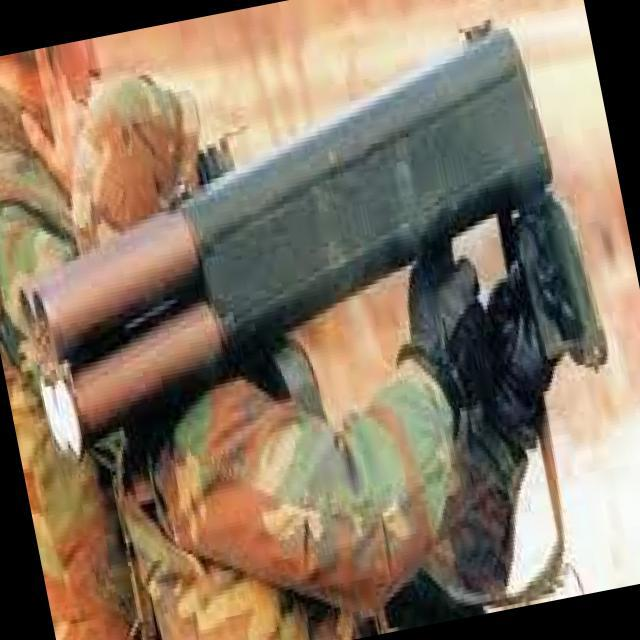rocket: (0, 9, 587, 480)
